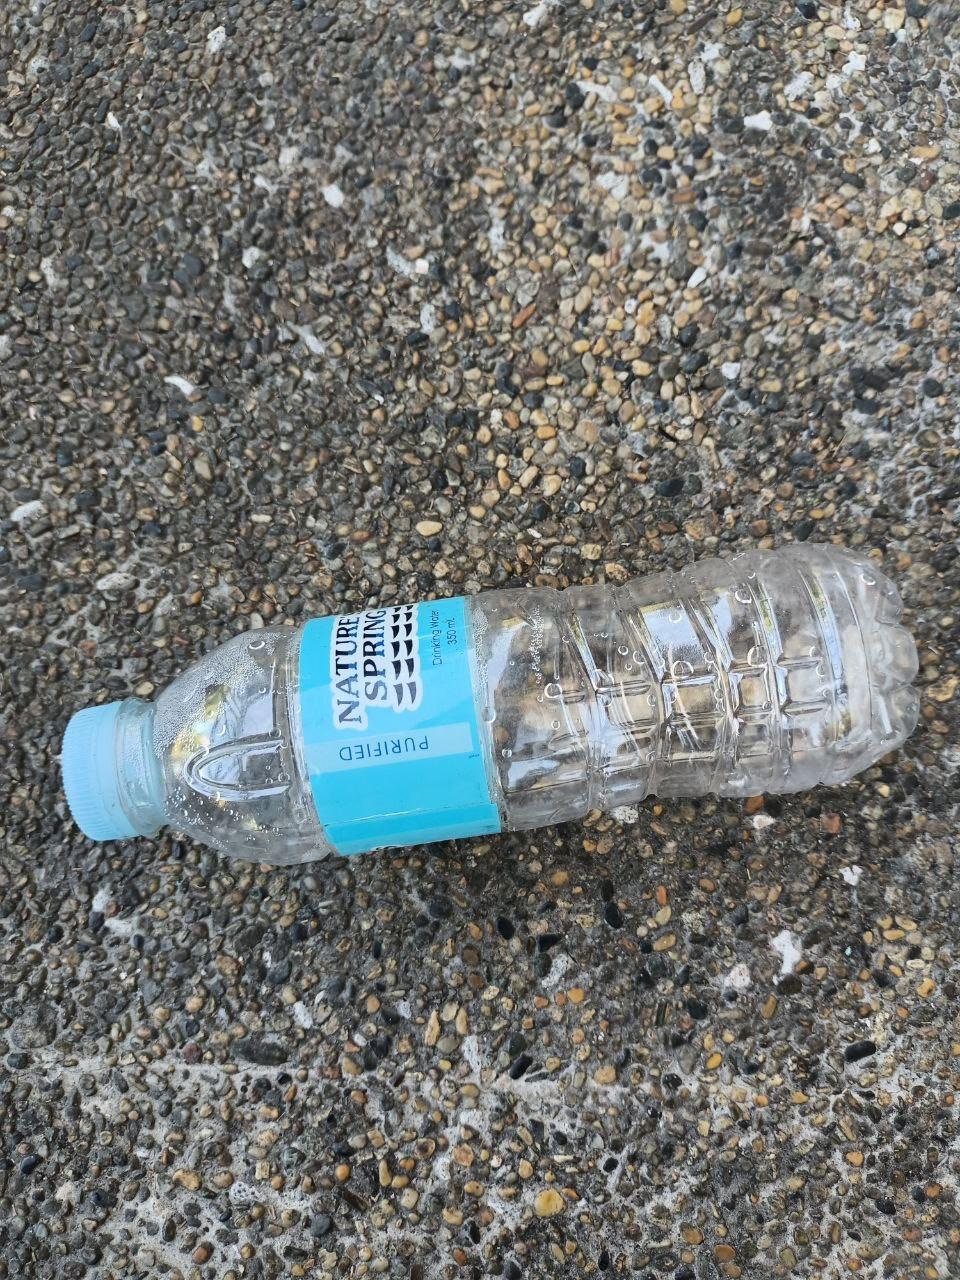plastic: (46, 532, 937, 890)
